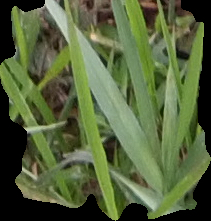grass: (1, 1, 209, 219)
